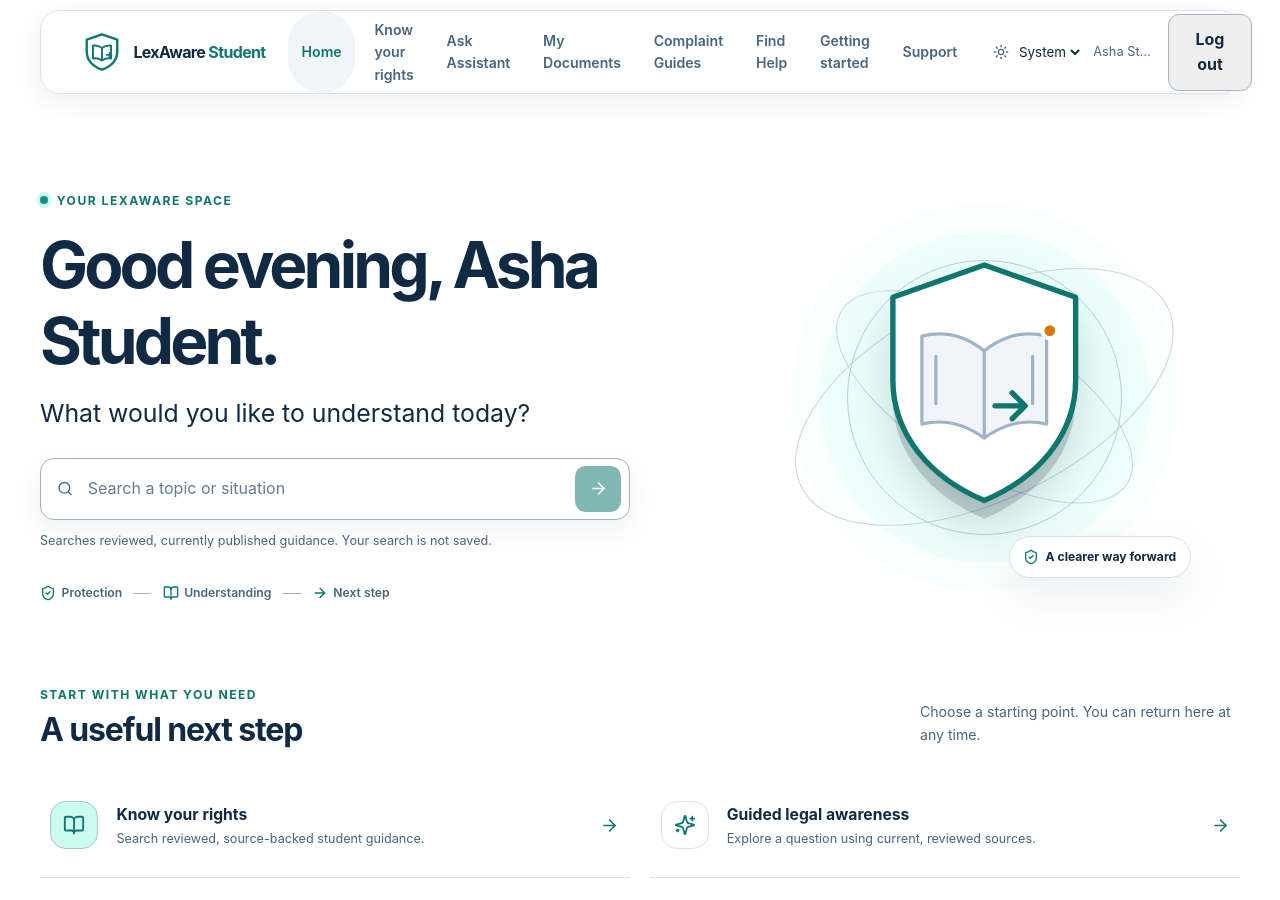
Test: authenticated student dashboard › keeps empty search results truthful and safe source links HTTP-only
Type "rights" into the field named "Search reviewed student guidance" at [324, 489], box [86,467,562,511]
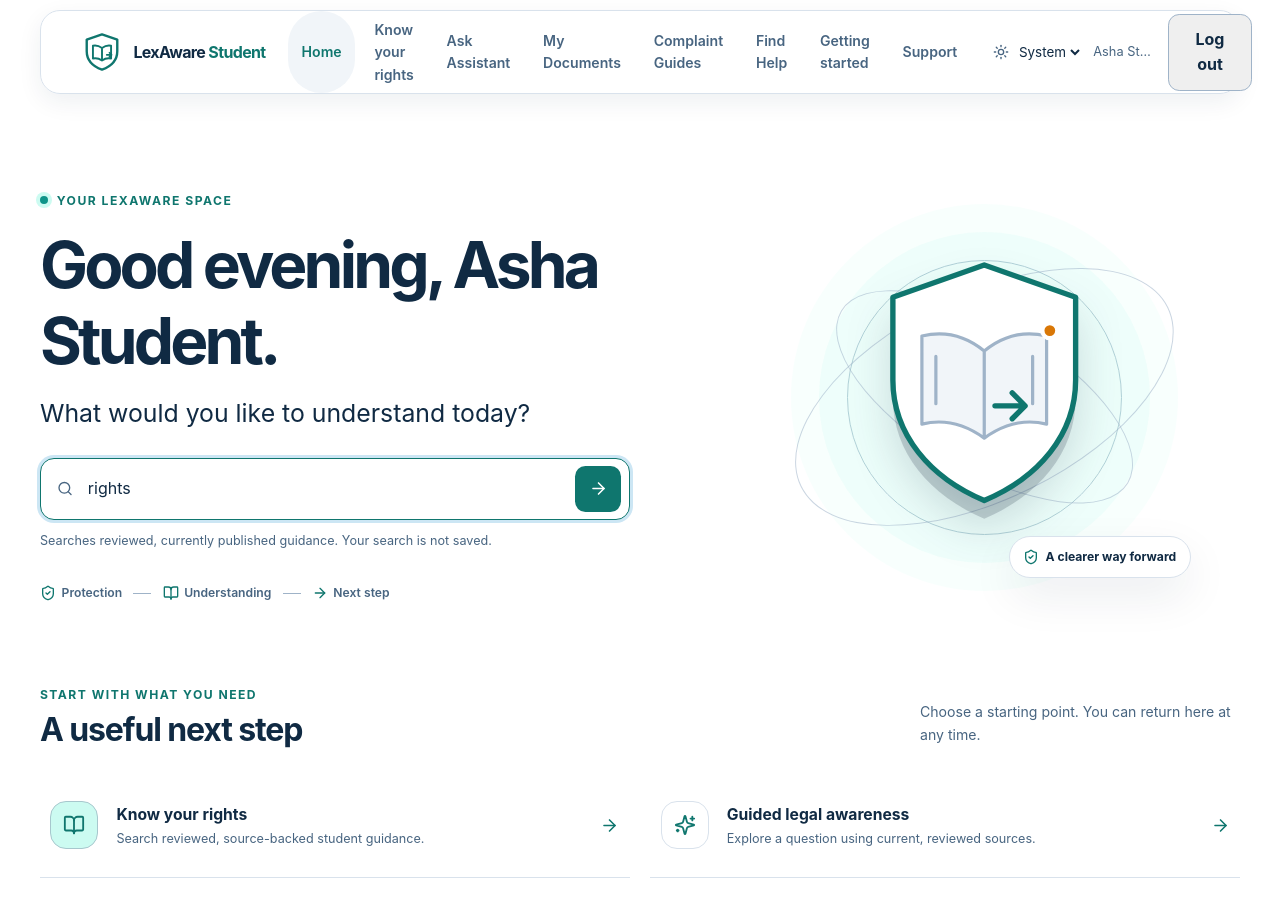
Click the button named "Search published guidance" at [598, 489], box [575,466,621,512]
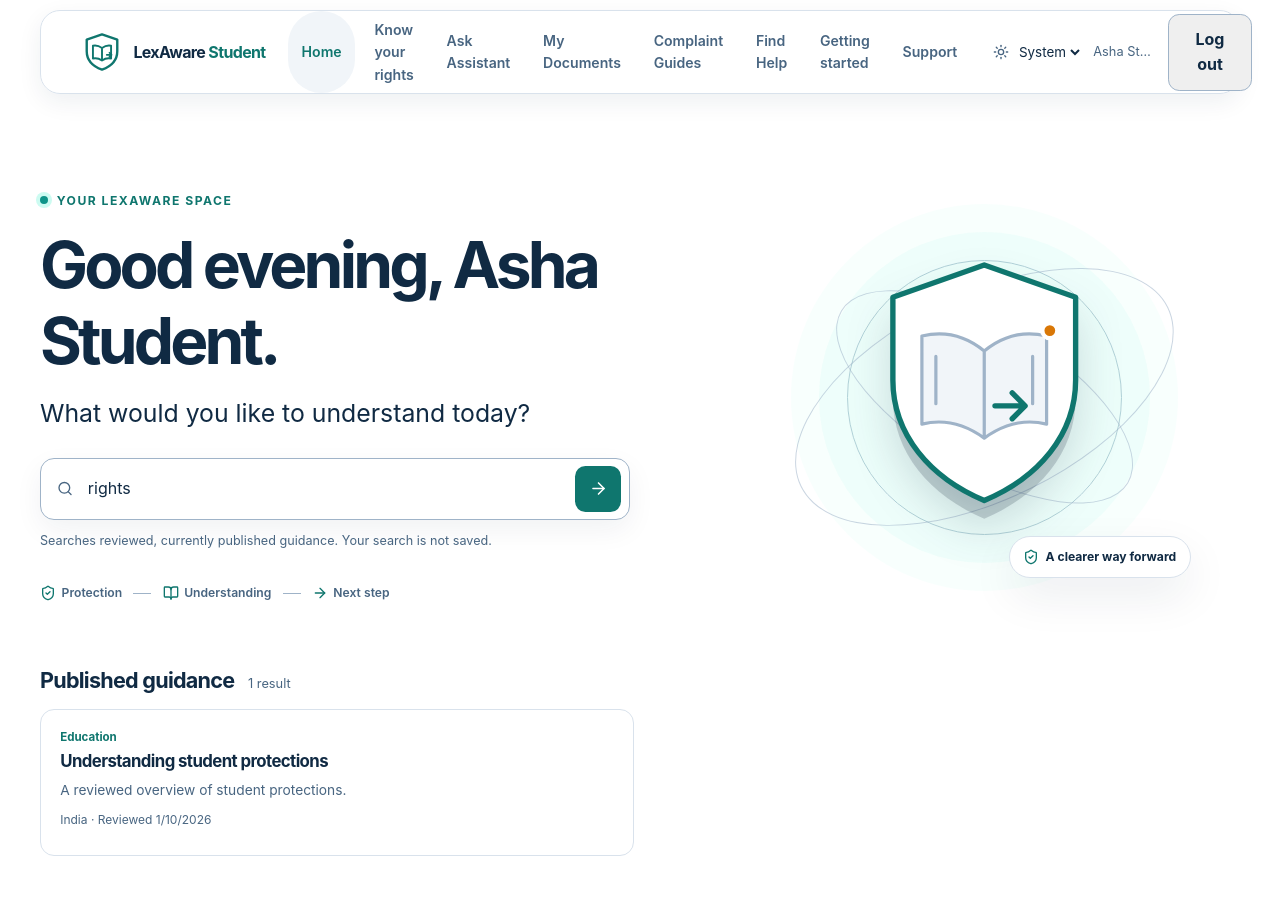
Expected: the heading "Understanding student protections" is shown, [60,752,328,772]
Replace the text in the field named "Search reviewed student guidance" with "no match" at [324, 489], box [86,467,562,511]
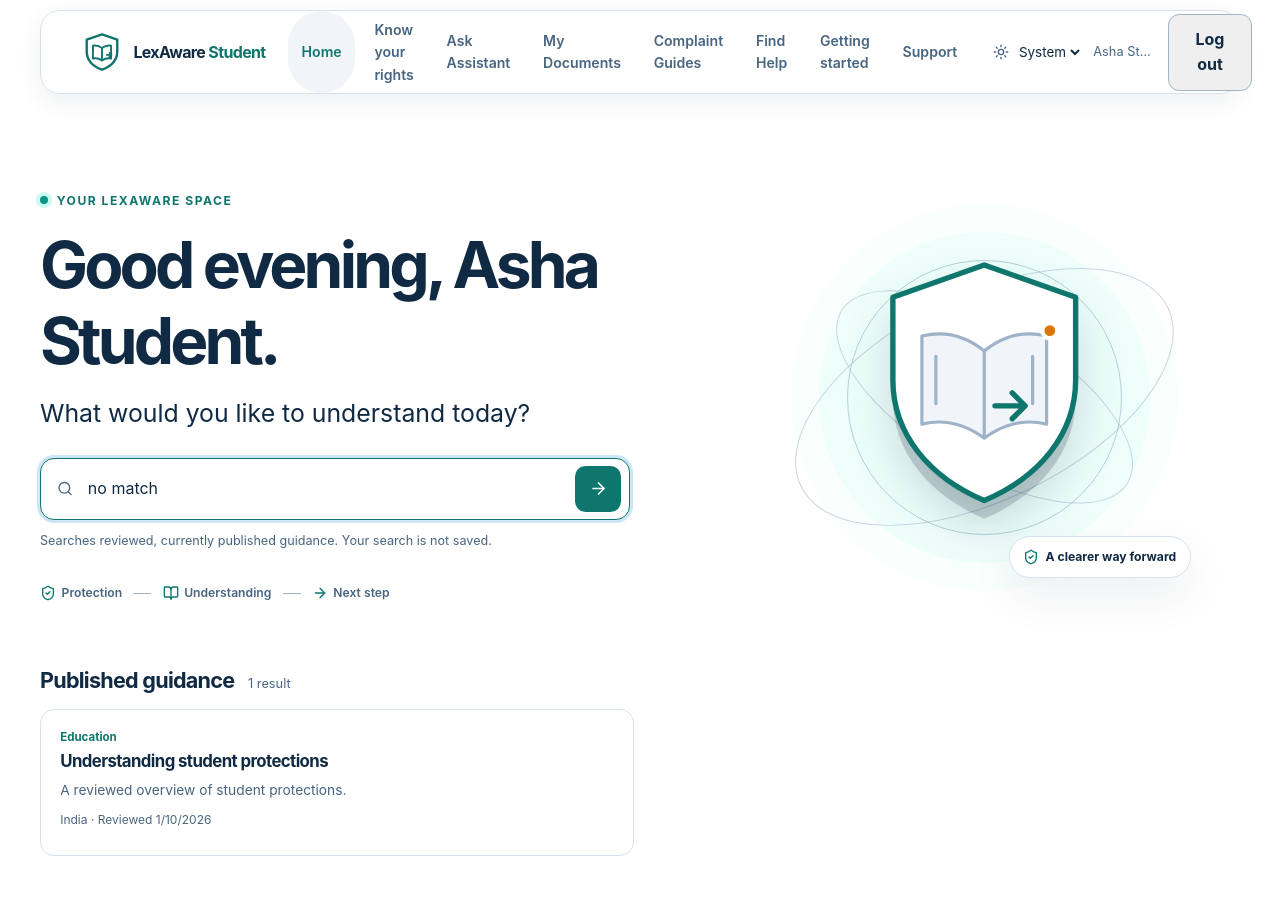
Click the button named "Search published guidance" at [598, 489], box [575,466,621,512]
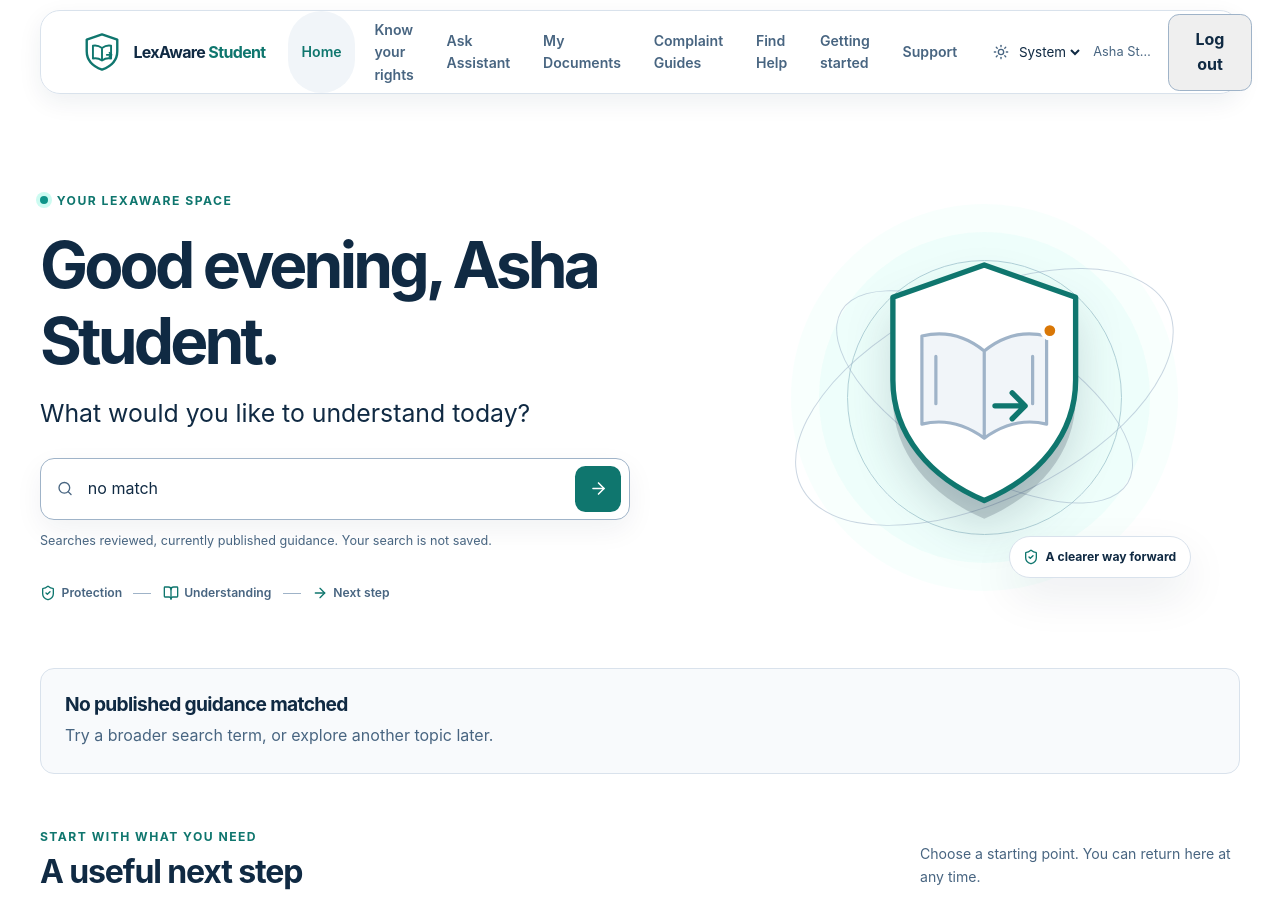
Expected: the heading "No published guidance matched" is shown, [65,692,348,716]
